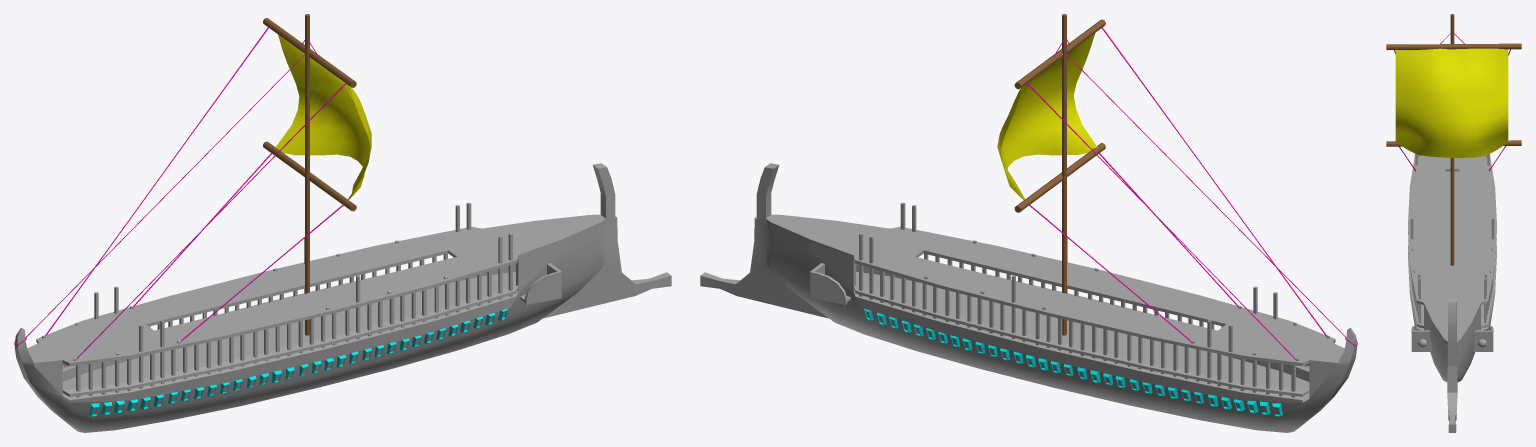
File: Barco4Nuevo4.fbx
3 views of the same model, side by side, from view 1: azimuth 30°, elevation 25°; view 2: azimuth 150°, elevation 25°; view 3: azimuth 270°, elevation 25° (orthographic). The views are drawn at different scales.
Parts seen in each view (by area): view 1: Barco4Nuevo4; view 2: Barco4Nuevo4; view 3: Barco4Nuevo4.
Part boxes in pixels (x1,y1,x2,y2): Barco4Nuevo4: (14, 14, 671, 432); Barco4Nuevo4: (700, 14, 1357, 432); Barco4Nuevo4: (1386, 14, 1521, 432).
Size of the model in its own units: 324107 by 169796 by 74098.
